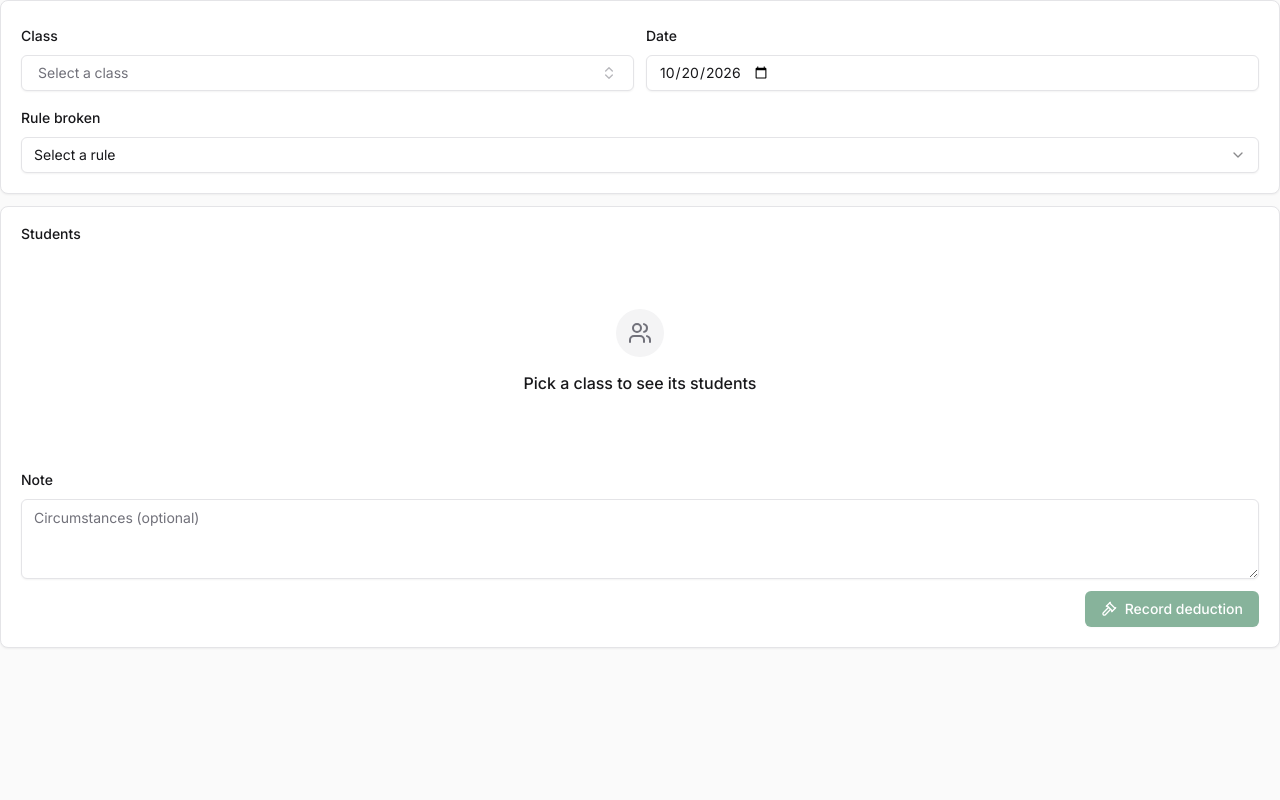
it: conduct deductions — taking points › says how far it has escalated and who must be told, without another click
Click the dropdown labelled "Select a class" at (83, 72), box [21,55,634,91]
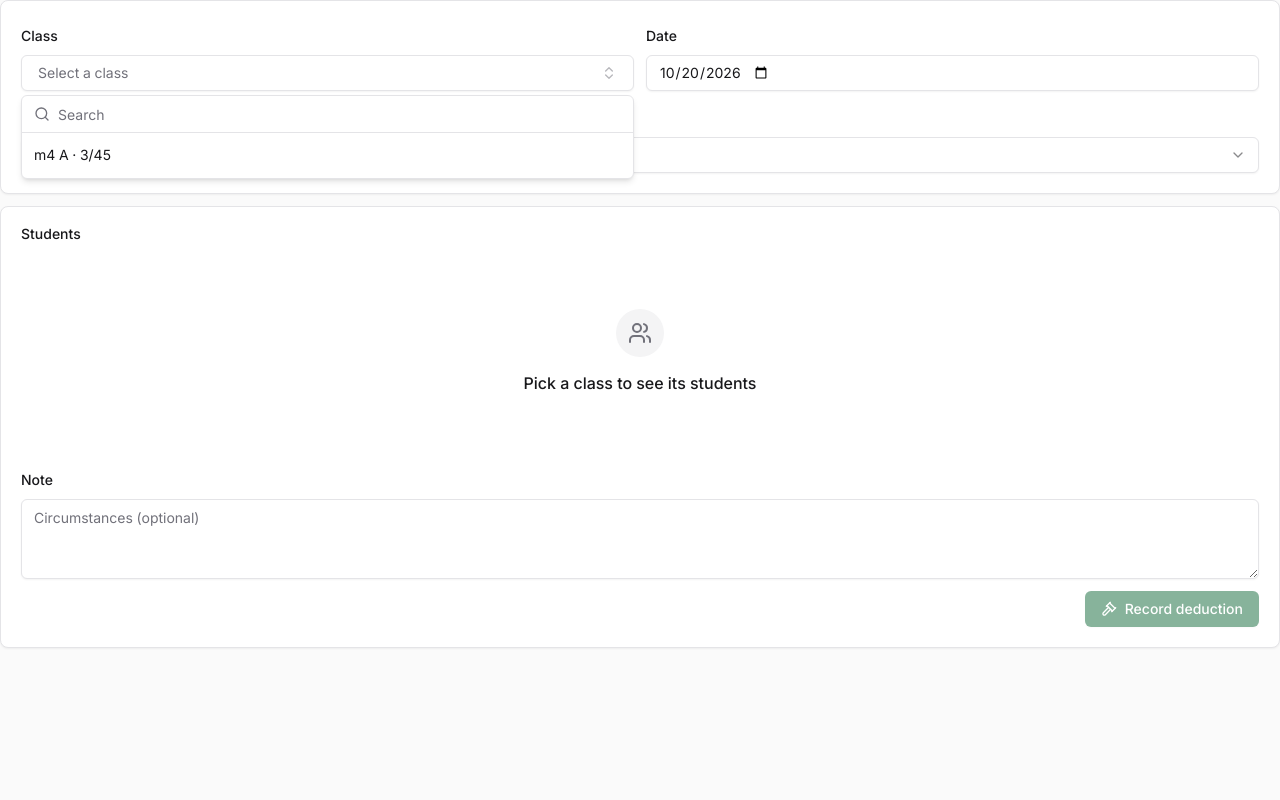
Click the button "m4 A · 3/45" at (72, 154), box [26,137,629,174]
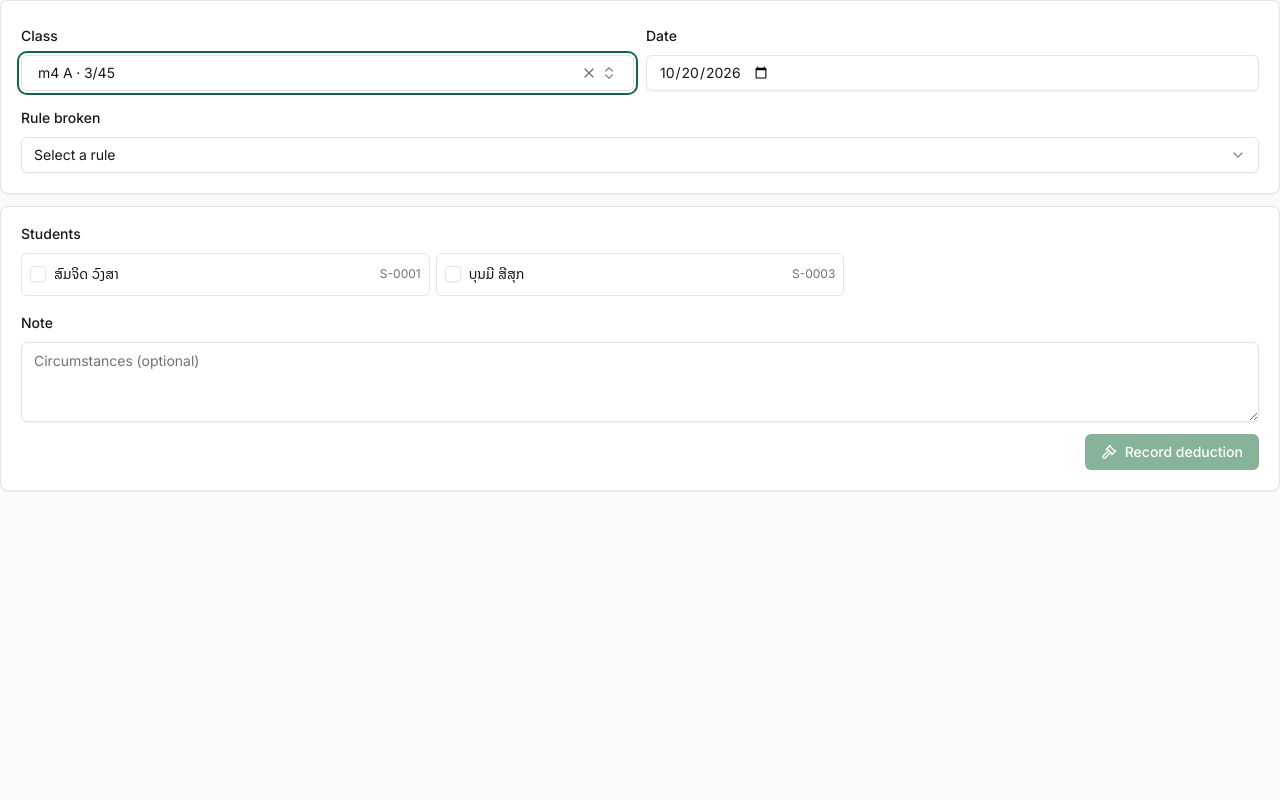
Click the dropdown named "rule broken" at (75, 154), box [21,137,1259,173]
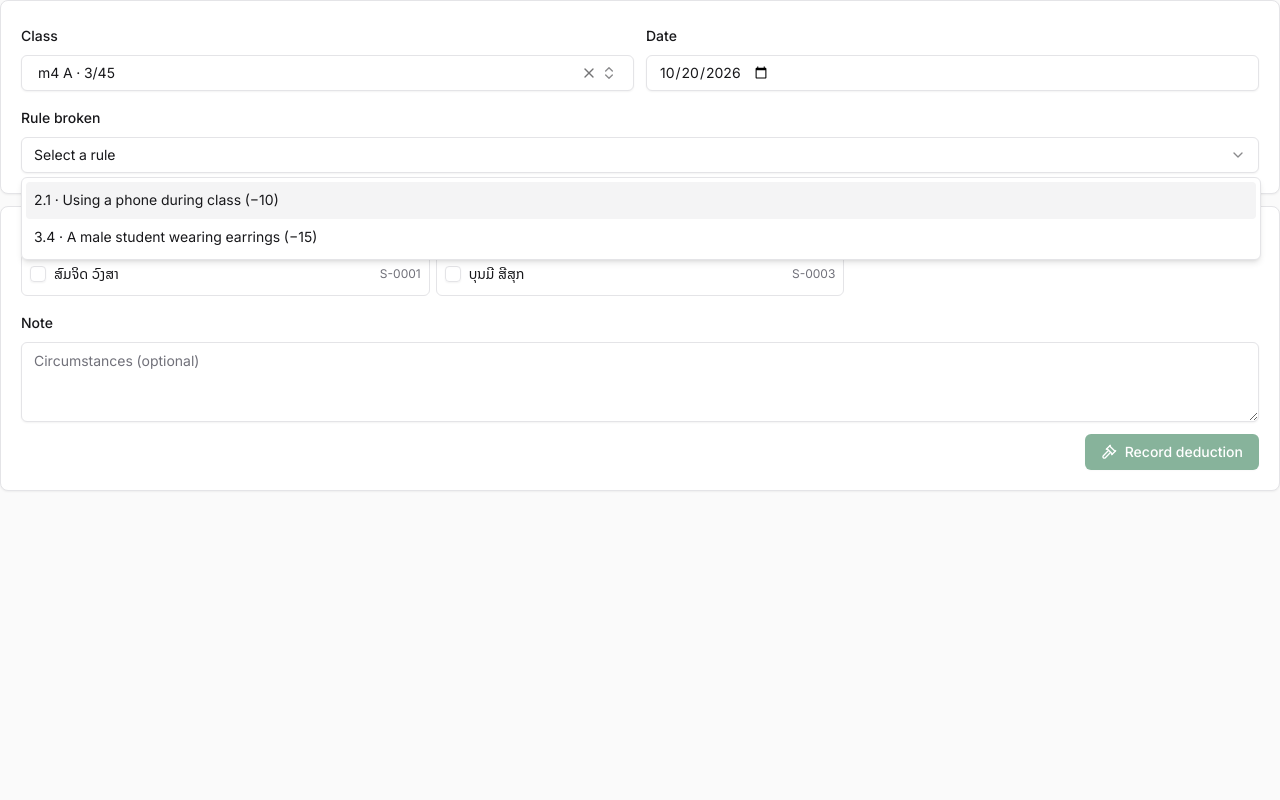
Click the option "2.1 · Using a phone during class (−10)" at (152, 200), box [26,182,1256,218]
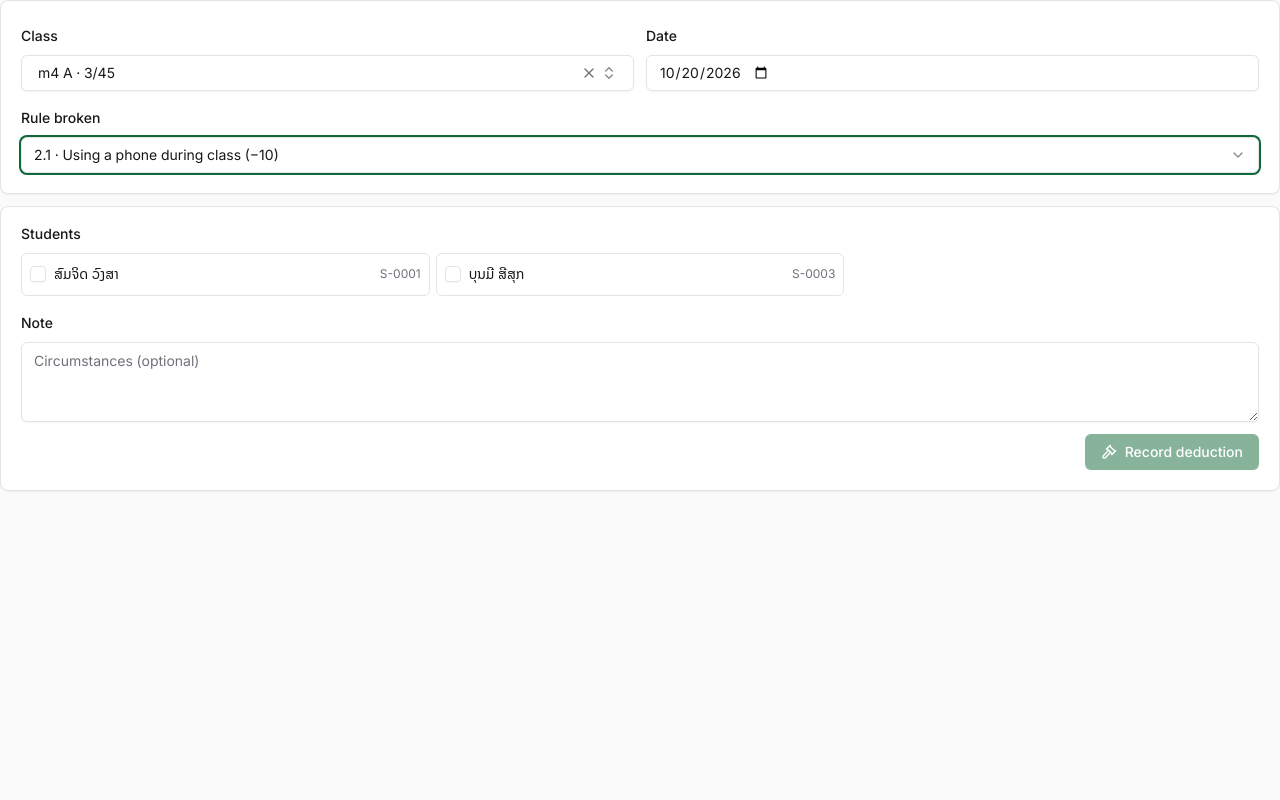
Click the checkbox named "ສົມຈິດ ວົງສາ" next to "ສົມຈິດ ວົງສາ" at (38, 274), box [30,266,46,282]
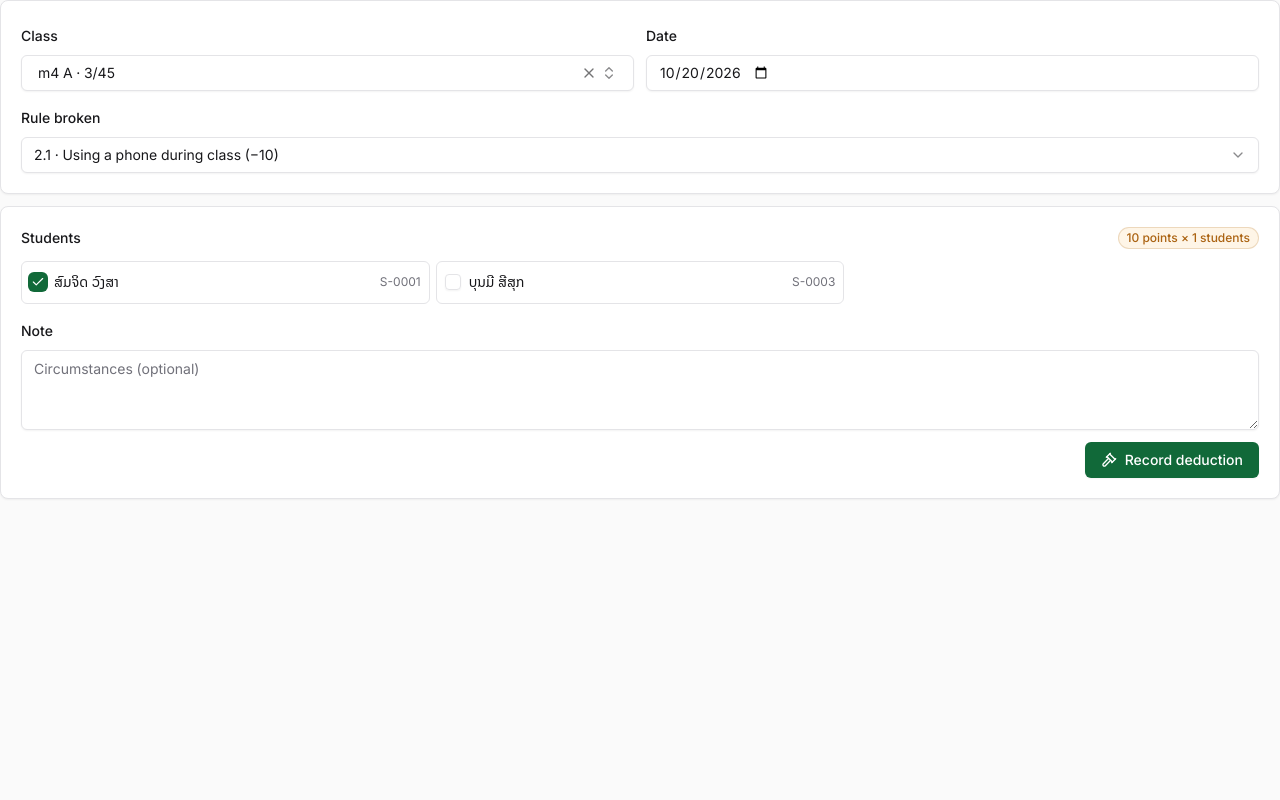
Click the button "Record deduction" at (1172, 460), box [1085,442,1259,478]
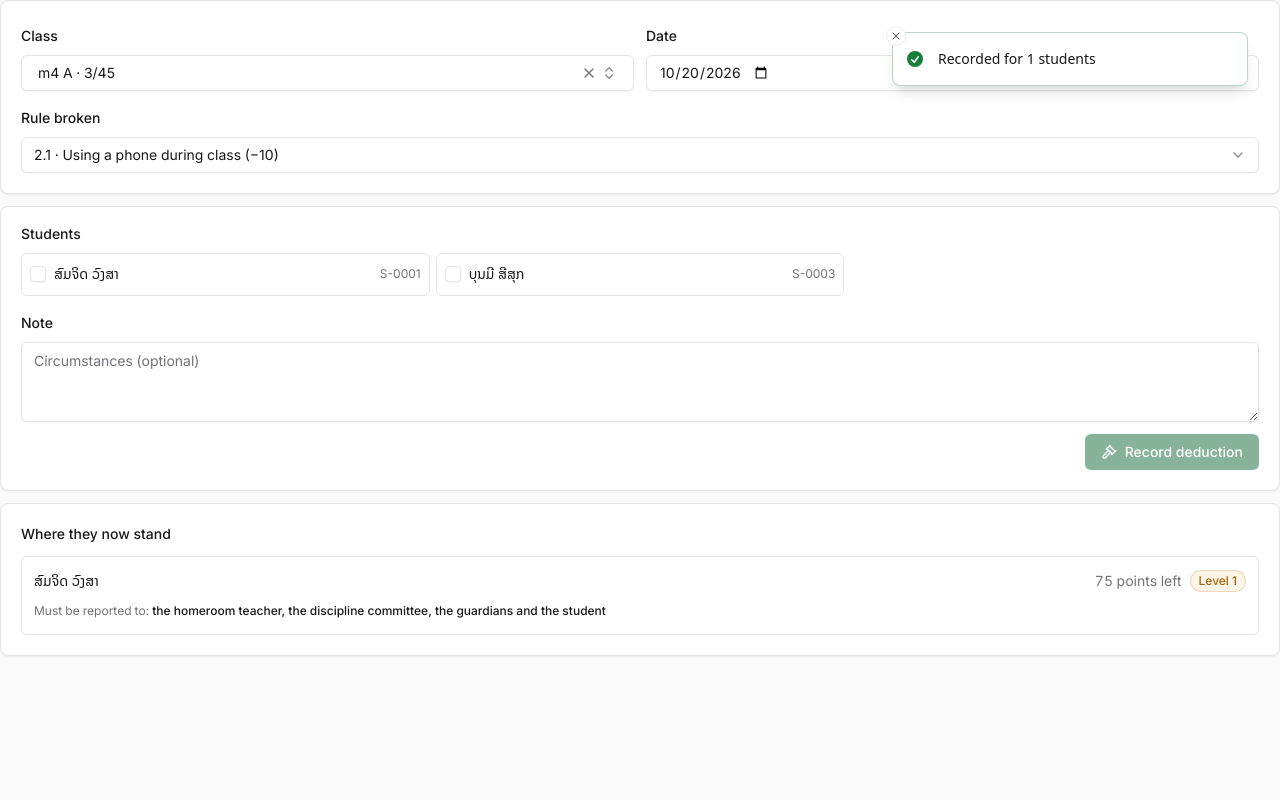
Check: the text "75 points left" is shown, box [1095,571,1182,591]
Check: the text "Level 1" is shown, box [1190,570,1246,592]
Check: the text "the guardians" is shown, box [152,601,606,621]
